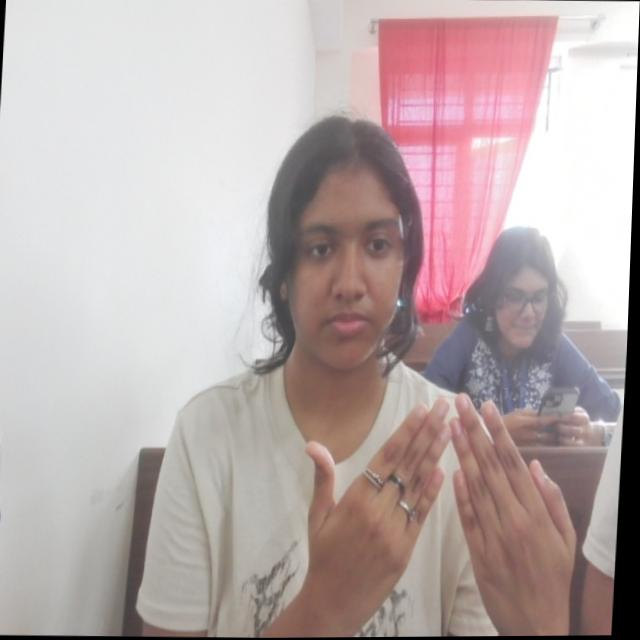thankyou: (296, 386, 591, 638)
